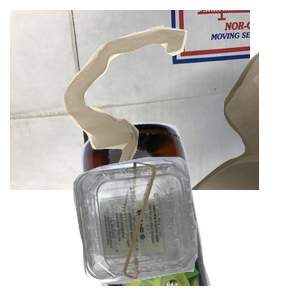cardboard: (10, 10, 250, 190)
glass: (78, 120, 281, 300)
plastic: (71, 154, 300, 300)
trash: (60, 23, 300, 203)
